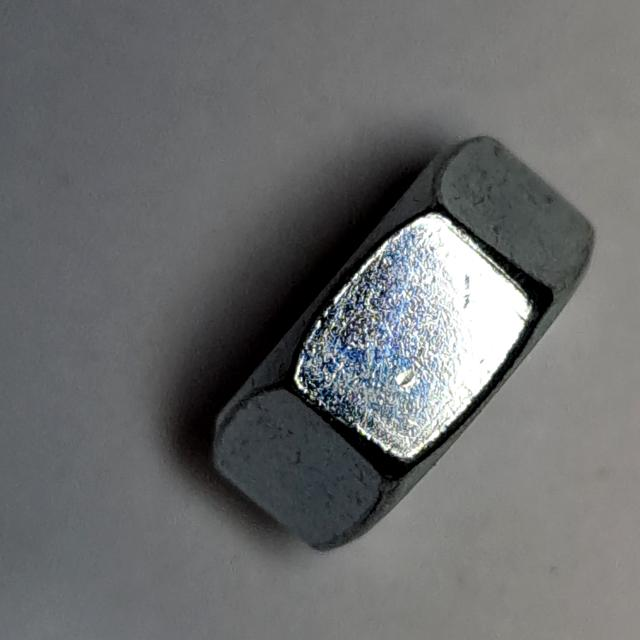Side_Excellent: (201, 121, 608, 570)
